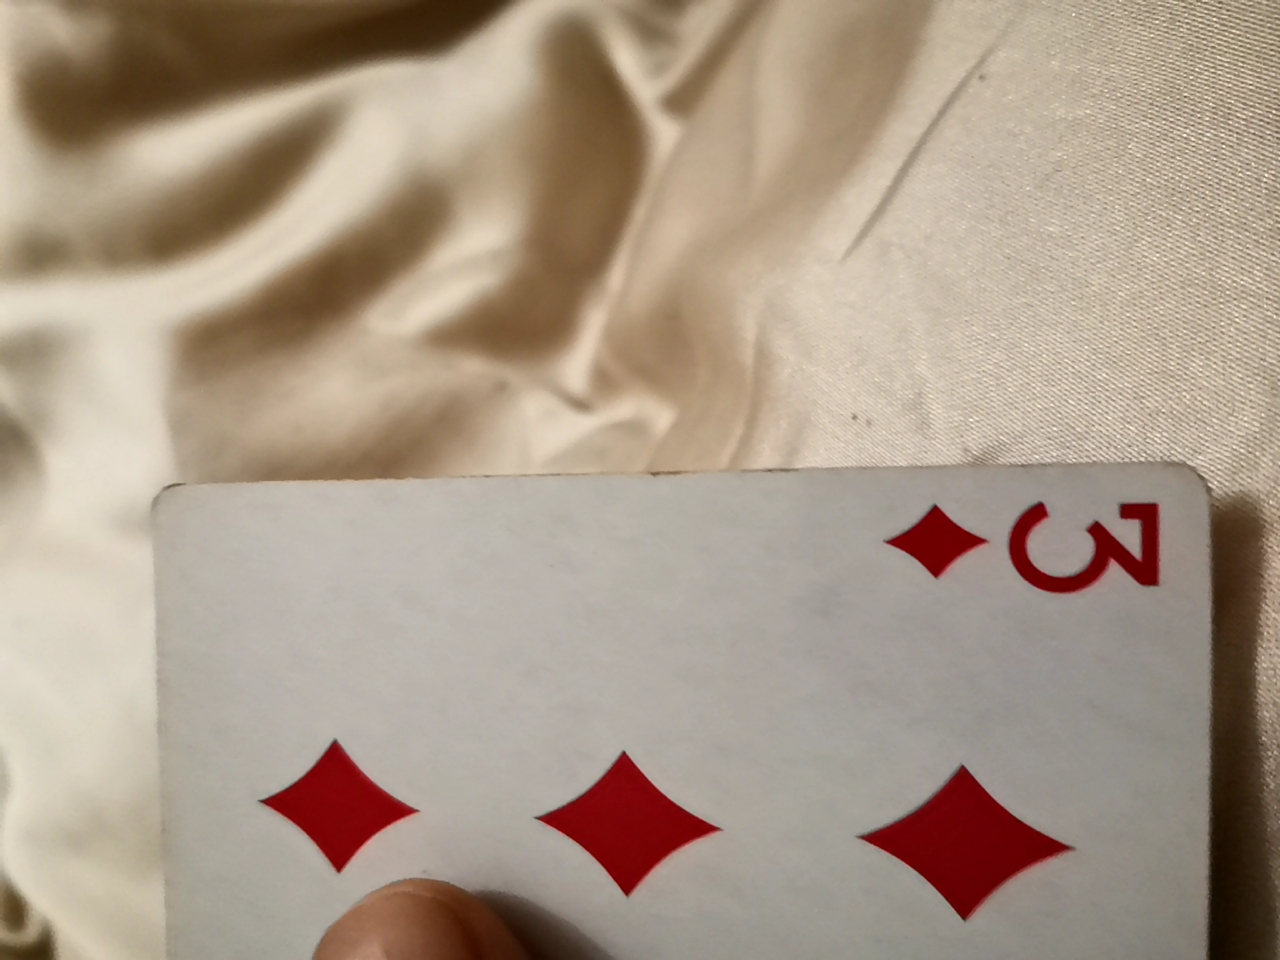fk 3: (142, 469, 1239, 951)
